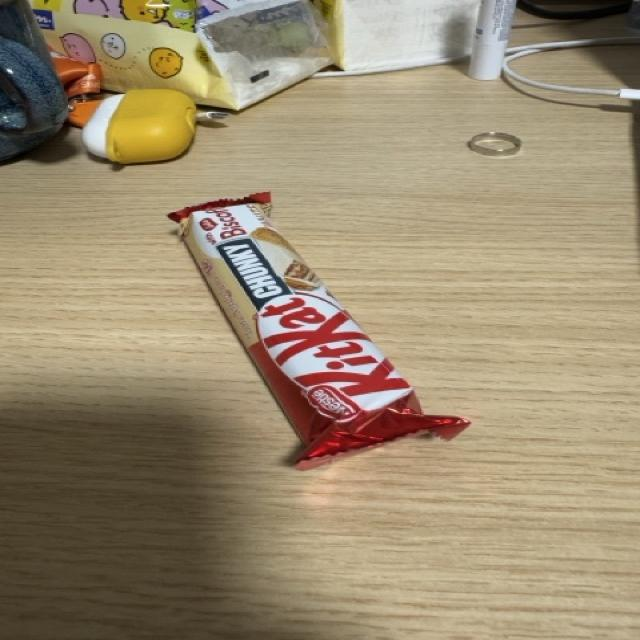chocolate: (155, 186, 481, 474)
